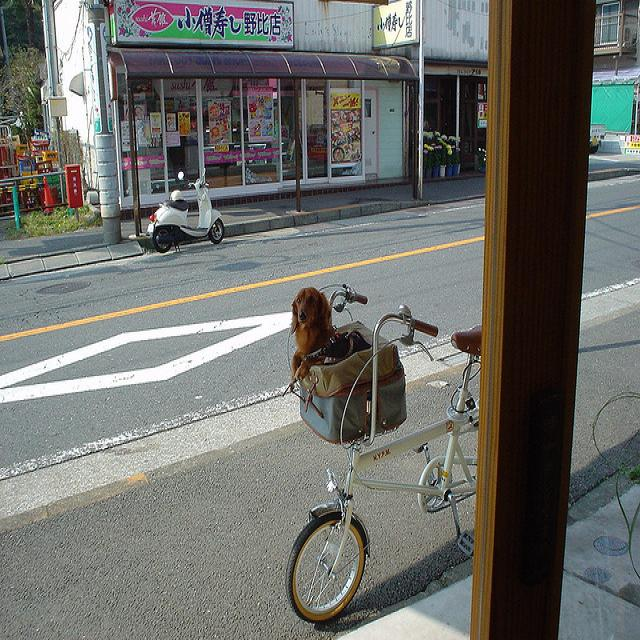motor: (146, 167, 225, 254)
